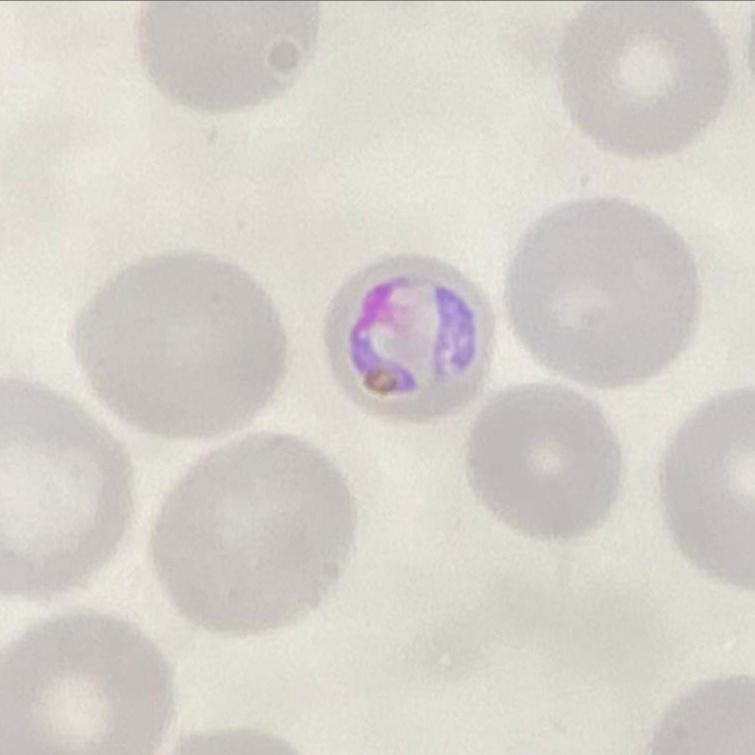Infected: (321, 255, 491, 418)
Uninfected: (156, 430, 361, 638), (67, 249, 284, 440), (513, 196, 693, 387), (0, 375, 137, 596), (564, 0, 727, 160), (2, 610, 172, 755), (469, 387, 622, 539), (136, 0, 316, 117), (660, 387, 755, 596)
